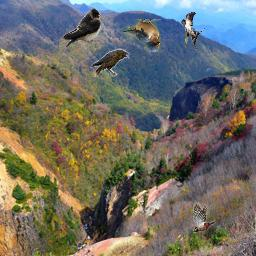Crow: (90, 48, 130, 77)
Swallow: (63, 8, 101, 48), (121, 19, 161, 52), (181, 12, 205, 52)
Woodpecker: (193, 202, 216, 234)
